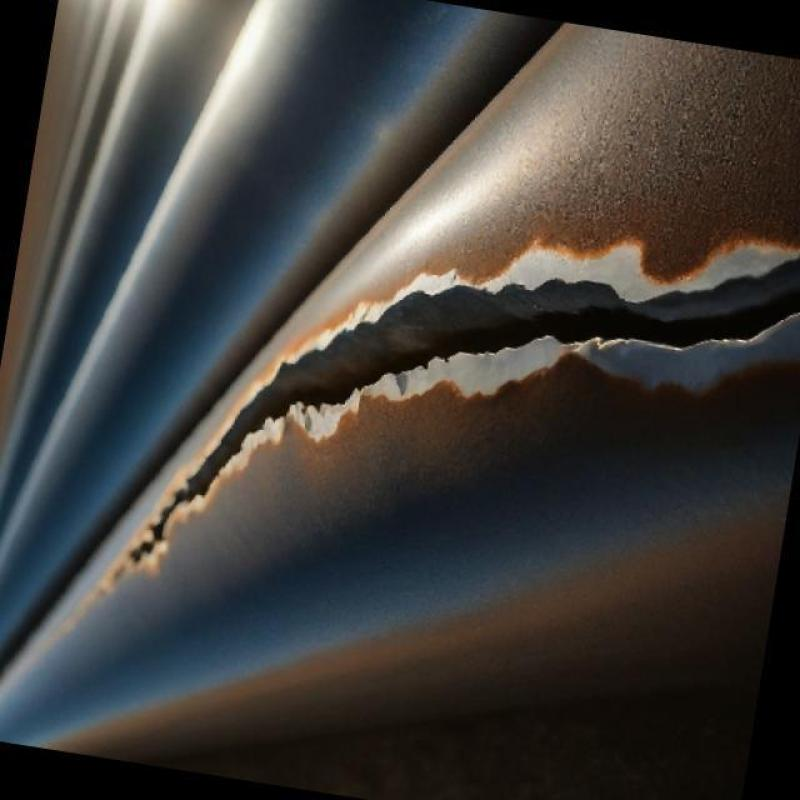Fracture: (210, 212, 792, 440)
